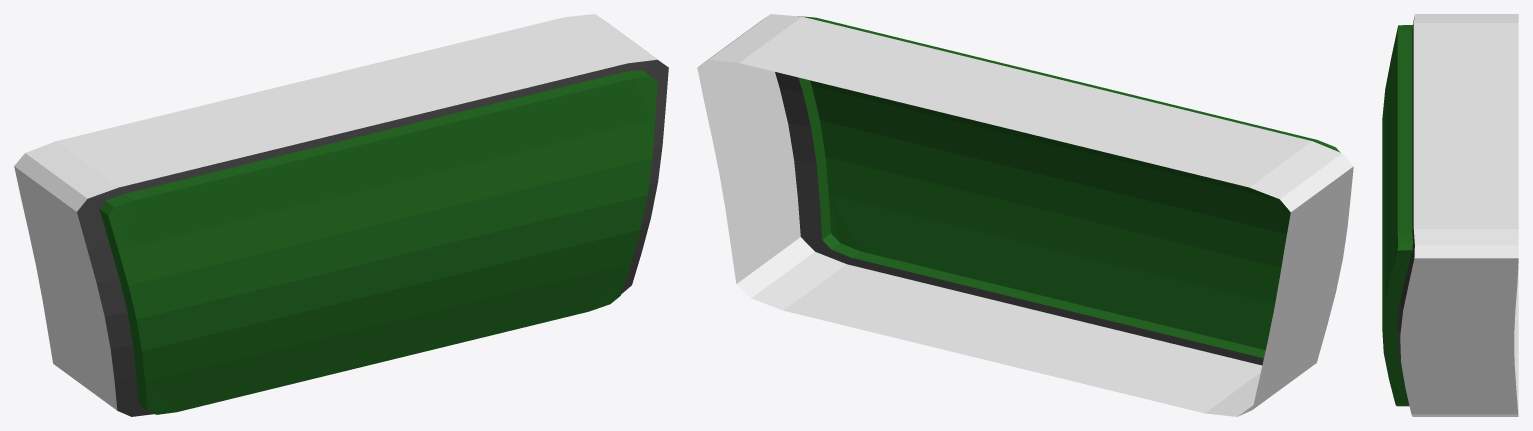
The model's file is Uitgangsbord_LOD0.fbx.
3 renders of one model, left to right at view 1: azimuth 30°, elevation 25°; view 2: azimuth 150°, elevation 25°; view 3: azimuth 270°, elevation 25°, orthographic. The views are drawn at different scales.
Visible parts, largest first — view 1: Uitgangsbord_LOD0; view 2: Uitgangsbord_LOD0; view 3: Uitgangsbord_LOD0.
Boxes of the visible parts, x1,y1,x2,y2 form: Uitgangsbord_LOD0: (14,14,668,416); Uitgangsbord_LOD0: (697,14,1353,416); Uitgangsbord_LOD0: (1382,14,1518,416).
Size of the model in its own units: 0.8767 by 0.3342 by 0.2108.
